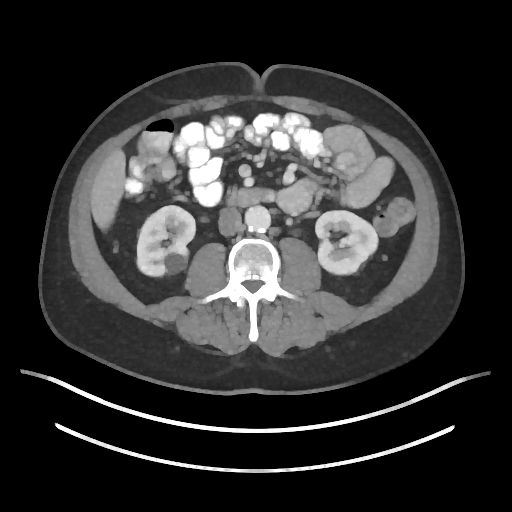Lesion: (162, 252, 189, 276)
